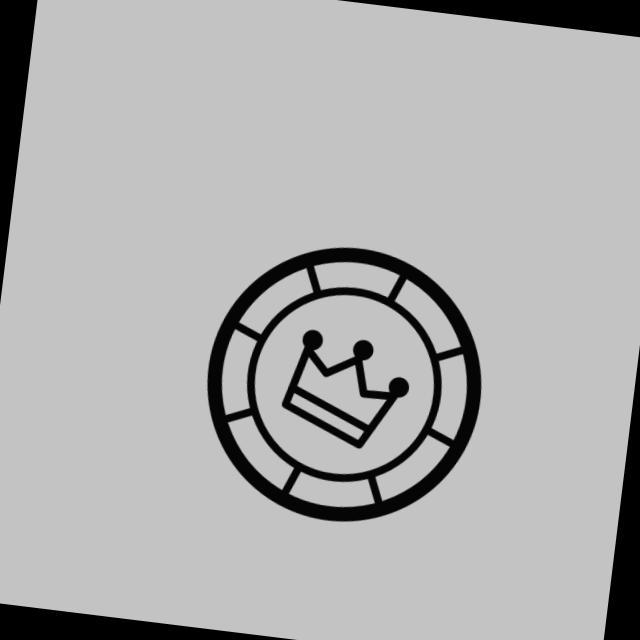coin: (182, 226, 504, 547)
